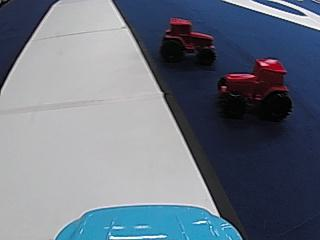Tracktor: (214, 54, 293, 121), (161, 15, 216, 65)
